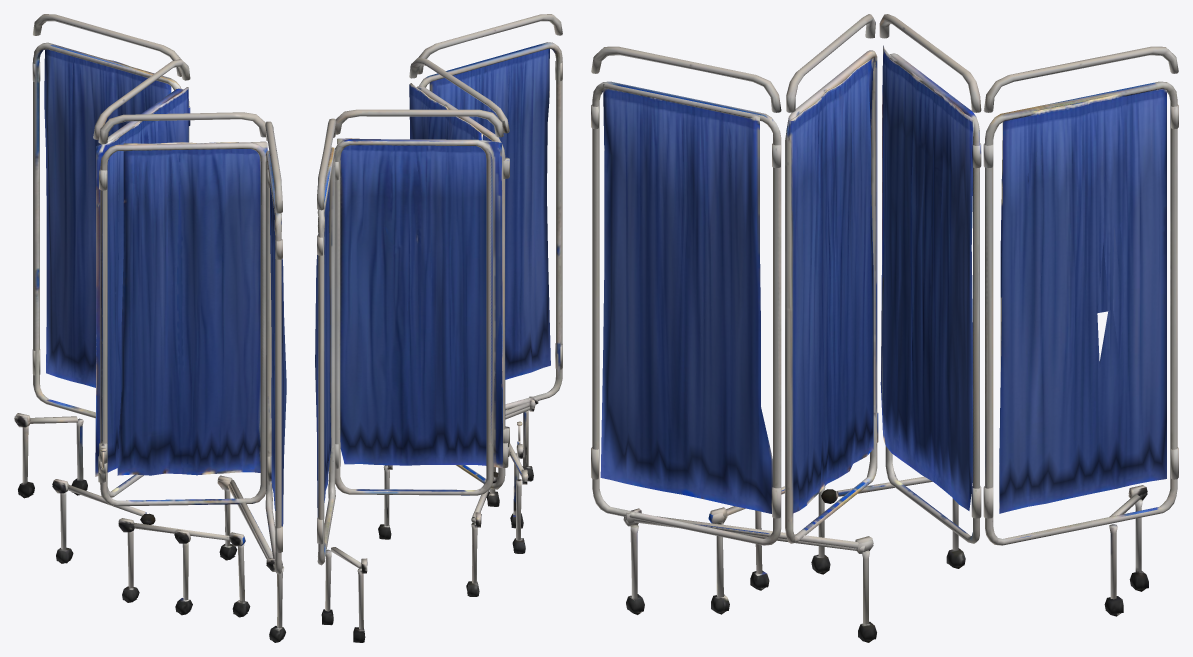
File: curtainstand.fbx
3 renders of one model, left to right at view 1: azimuth 30°, elevation 25°; view 2: azimuth 150°, elevation 25°; view 3: azimuth 270°, elevation 25°, orthographic. The views are drawn at different scales.
Visible parts, largest first — view 1: tripo_node_9e324fe8; view 2: tripo_node_9e324fe8; view 3: tripo_node_9e324fe8.
Part boxes in pixels (x1,y1,x2,y2): tripo_node_9e324fe8: (14, 14, 286, 642); tripo_node_9e324fe8: (315, 14, 562, 642); tripo_node_9e324fe8: (591, 14, 1178, 642).
Bounding box in the file's own units: 30.54 × 94.91 × 89.79.
Materials: 1 (1 with a texture image).
